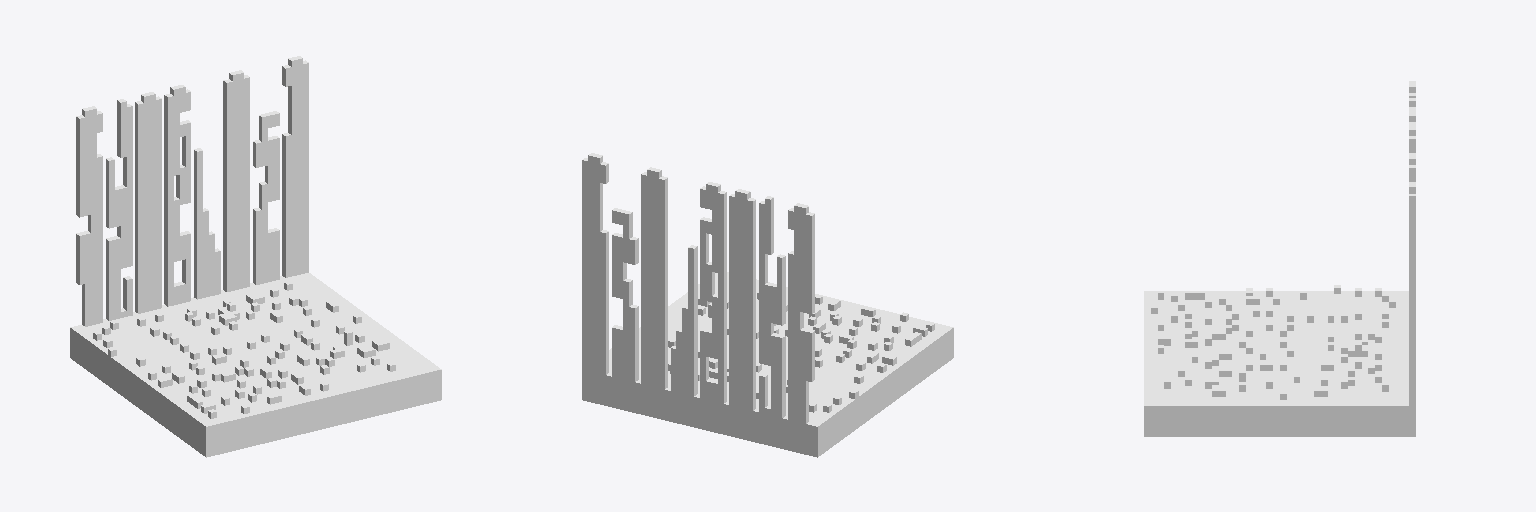
File: Zabor_Vulcano.obj
3 renders of one model, left to right at view 1: azimuth 30°, elevation 25°; view 2: azimuth 150°, elevation 25°; view 3: azimuth 270°, elevation 25°, orthographic.
Visible parts, largest first — view 1: object 1; view 2: object 1; view 3: object 1.
Boxes of the visible parts, <box> form: object 1: <box>70,56,441,457</box>; object 1: <box>582,153,953,457</box>; object 1: <box>1144,81,1415,436</box>.
Size of the model in its own units: 4 by 4 by 4.